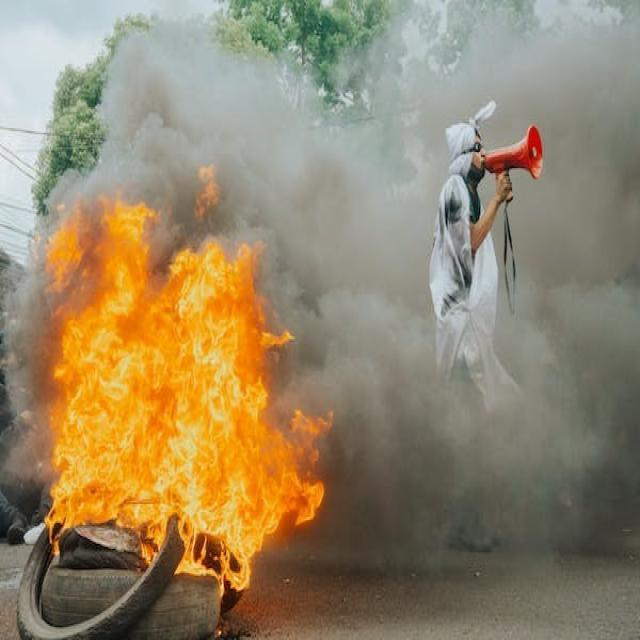Fire: (39, 199, 331, 590)
Smoke: (329, 198, 640, 575), (41, 7, 640, 200), (0, 200, 41, 490)
